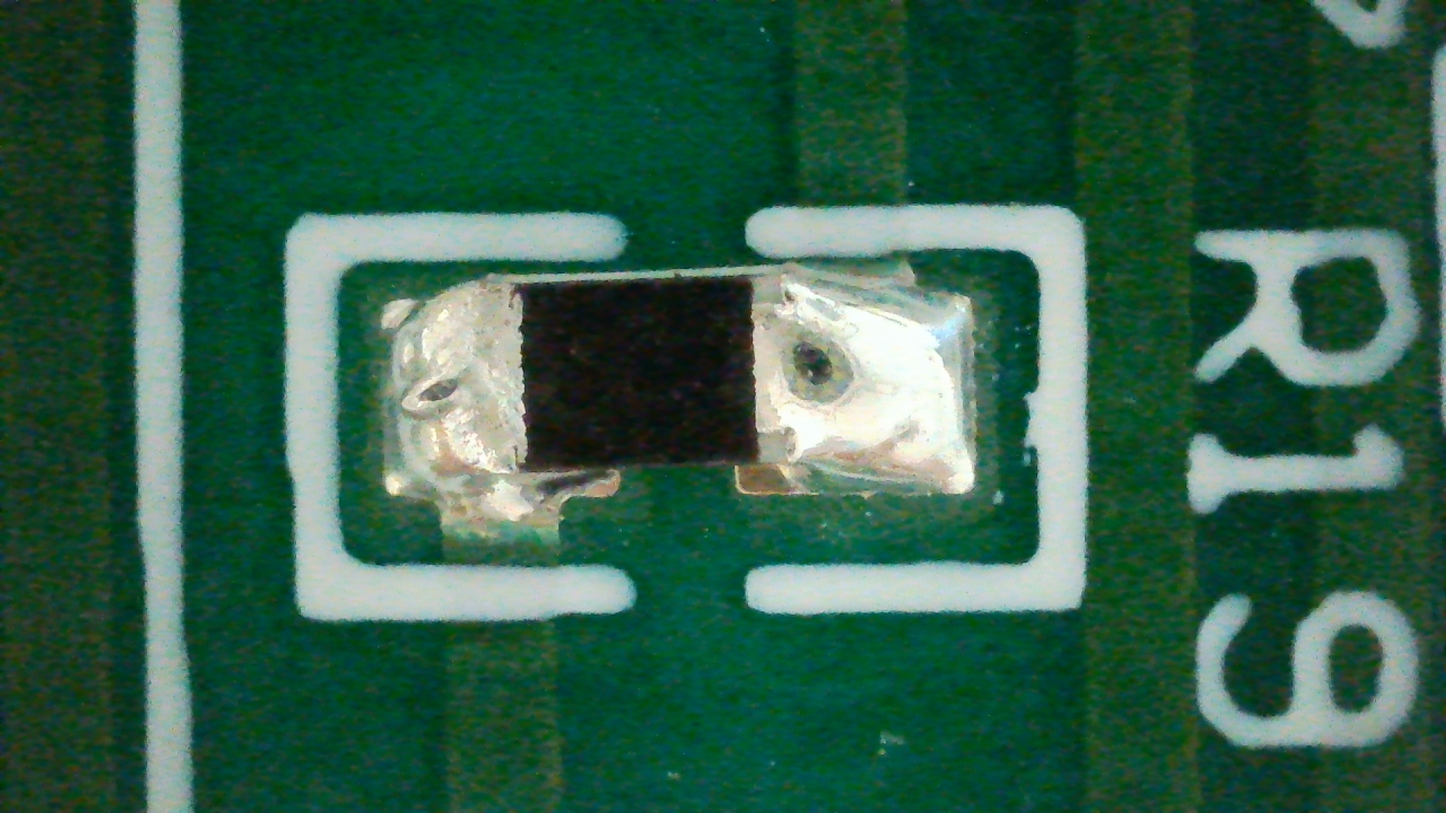NG: (379, 263, 979, 530)
